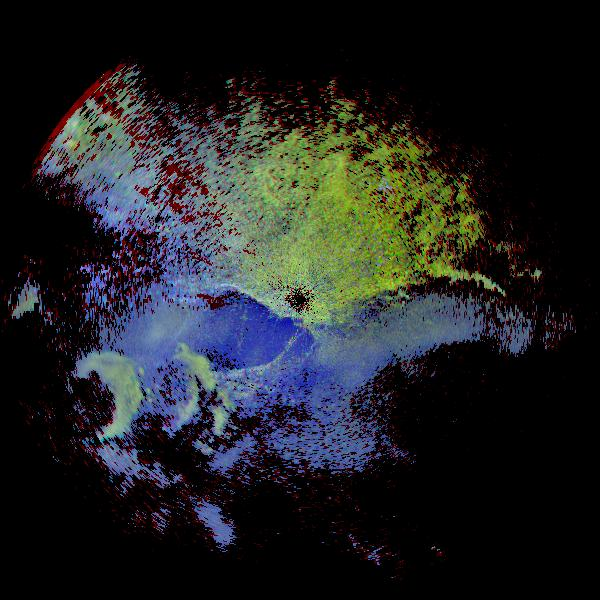roost: (38, 344, 149, 455), (123, 337, 225, 439), (200, 405, 227, 432)
